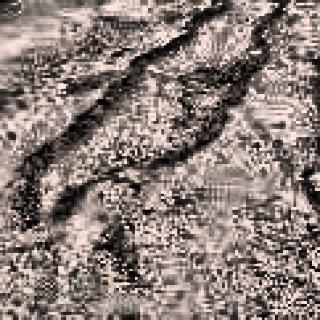pothole: (14, 3, 287, 236)
